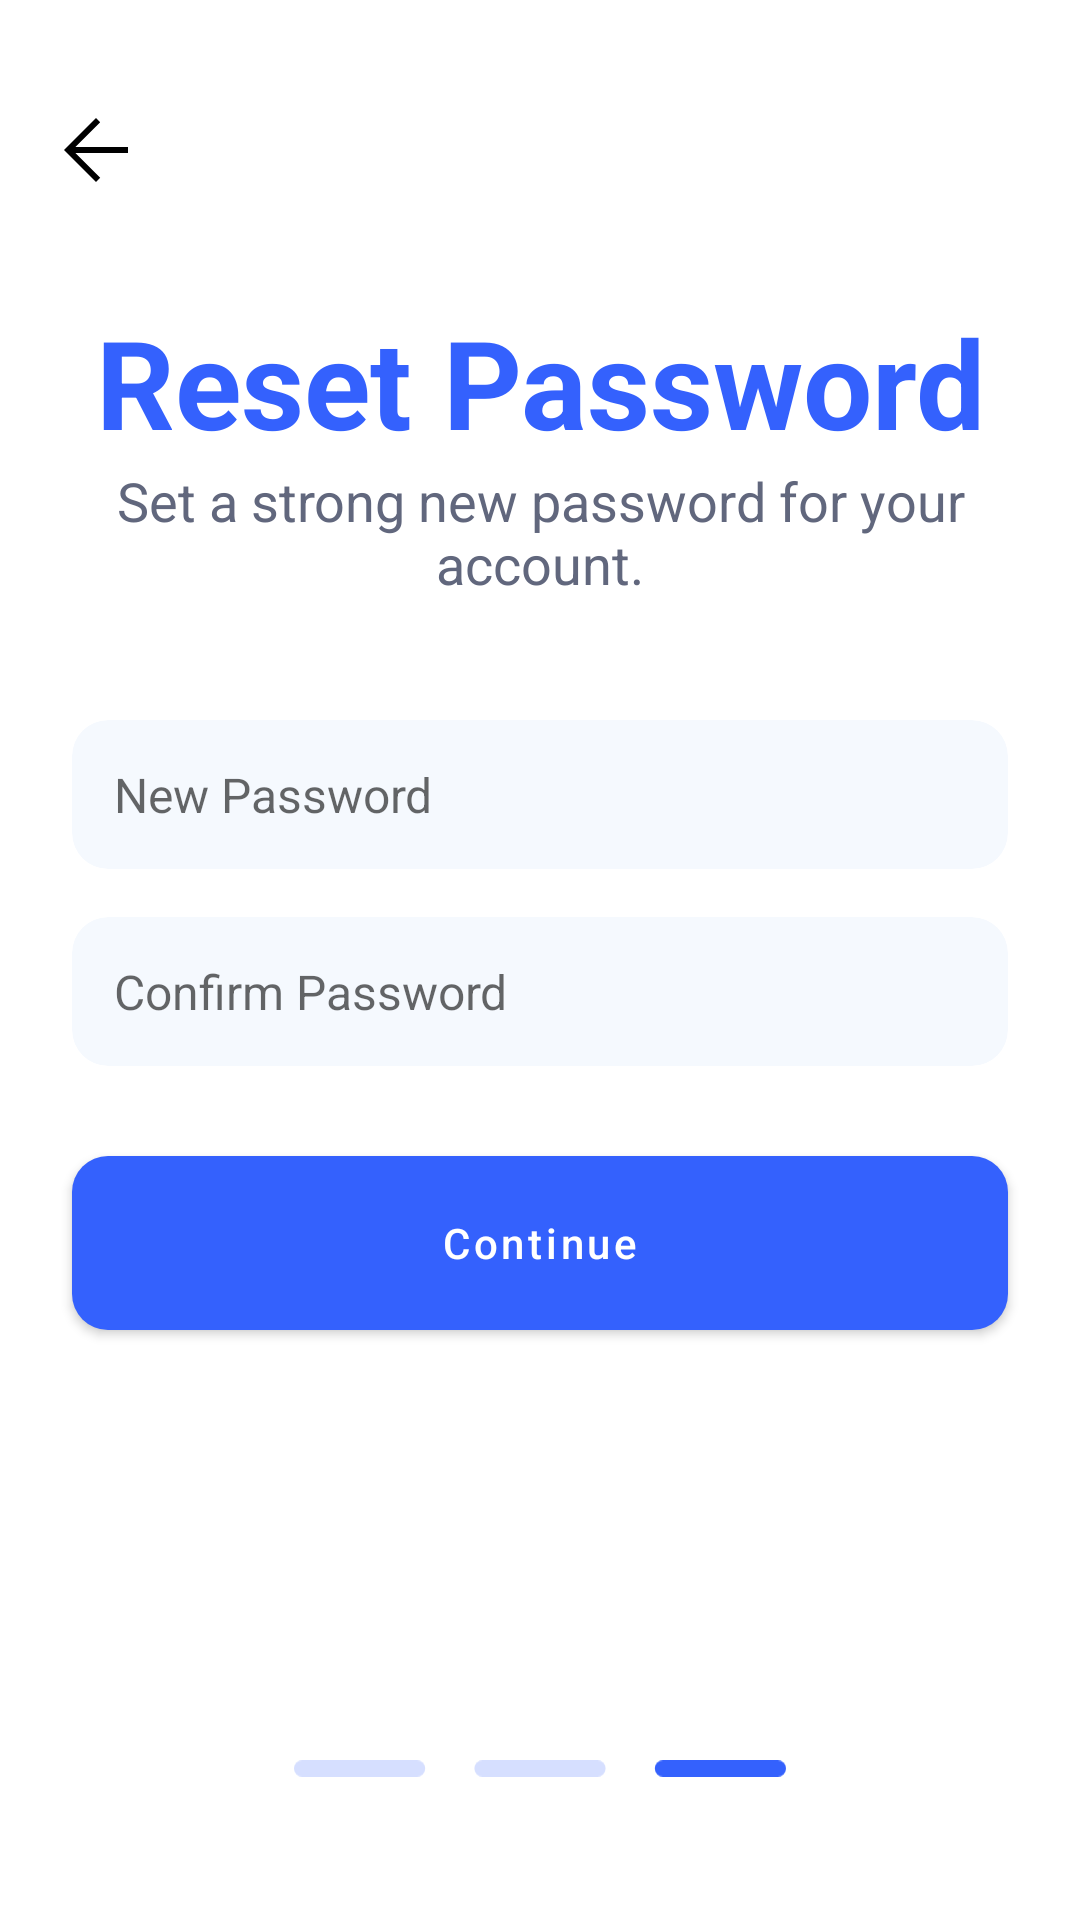

Point at icon controls on the screen. Image size 1080 x 1920, points as point (x, y).
Back: point (96, 150)
